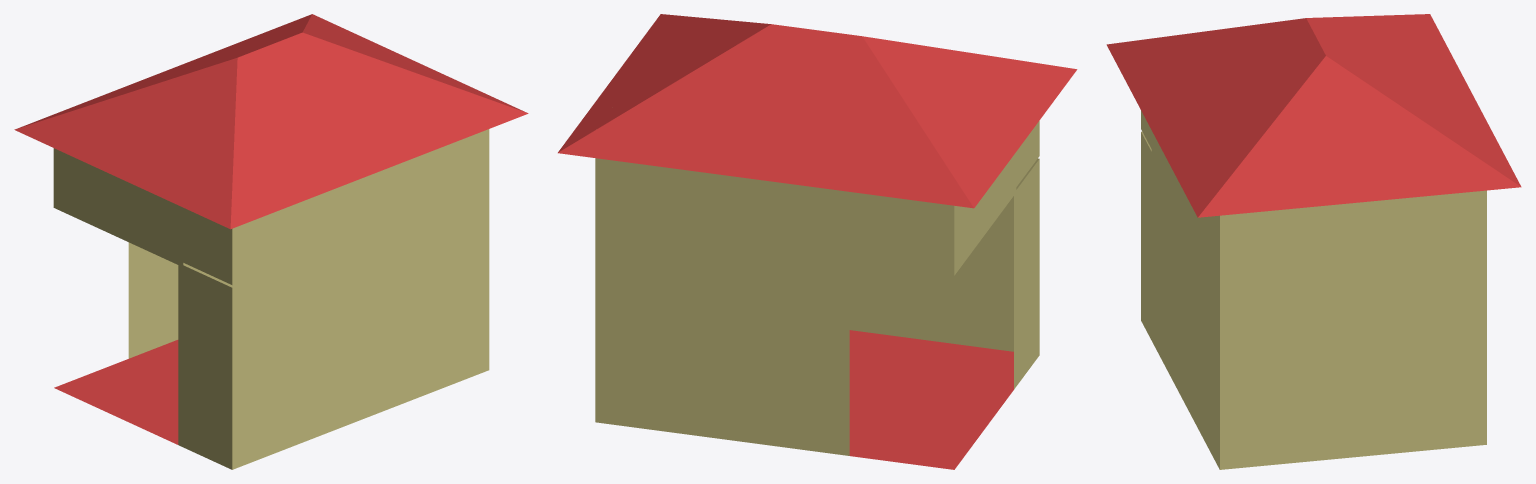
3 views of the same model, side by side, from view 1: azimuth 30°, elevation 25°; view 2: azimuth 150°, elevation 25°; view 3: azimuth 270°, elevation 25° (orthographic). The views are drawn at different scales.
Bounding box in the file's own units: 16.59 × 14.28 × 13.12.
